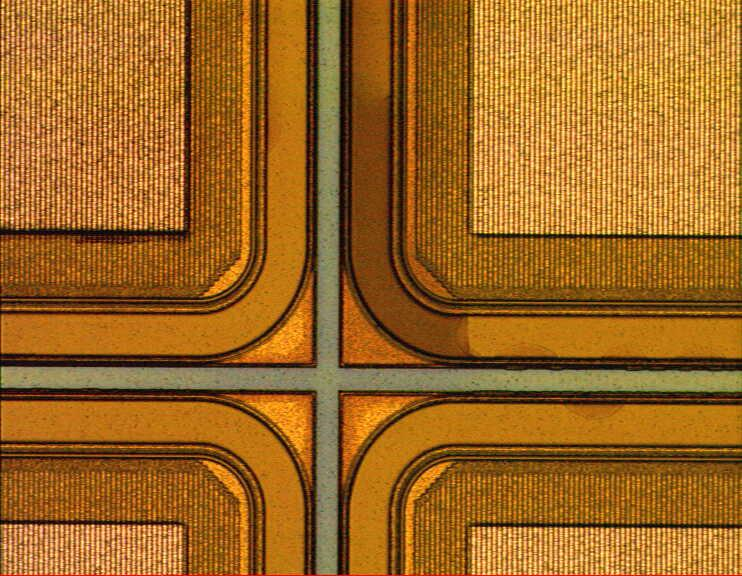SEZ BURNT: (338, 46, 641, 426)
